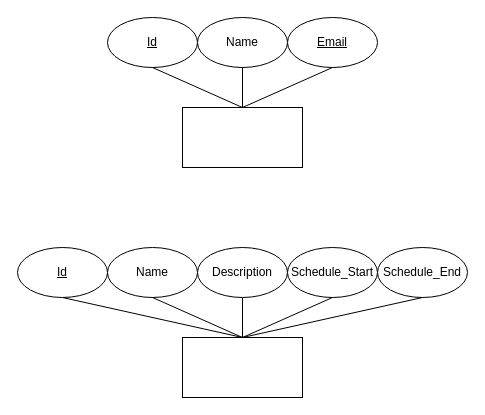
Some shapes in this 485 by 415 pixel diagram are drawn without their labels. The centre of each missing label's shape, as x and y in pixels:
"Duties" belongs at pixel 242 367.
"User" belongs at pixel 242 137.
